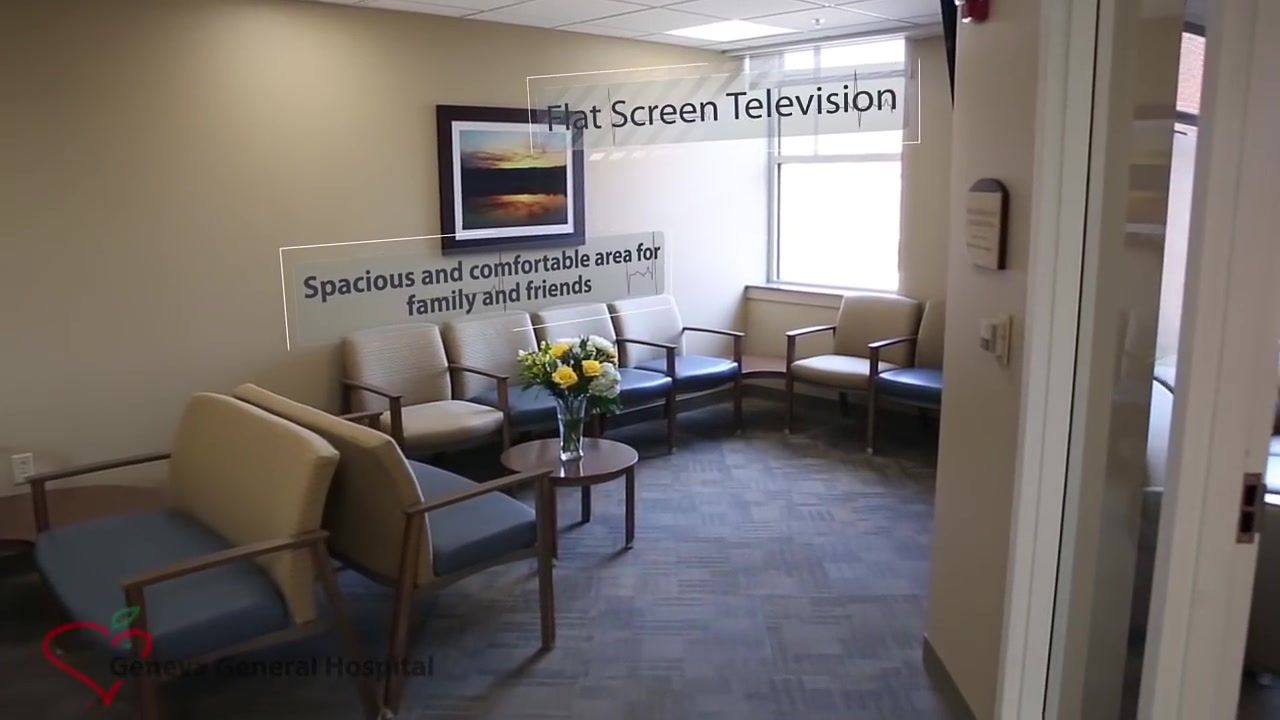chair: (25, 393, 372, 720), (231, 381, 555, 720), (337, 324, 511, 481), (782, 294, 923, 456), (607, 293, 747, 454), (530, 295, 672, 452), (442, 311, 601, 449), (866, 299, 946, 456)
table: (500, 438, 640, 551)
